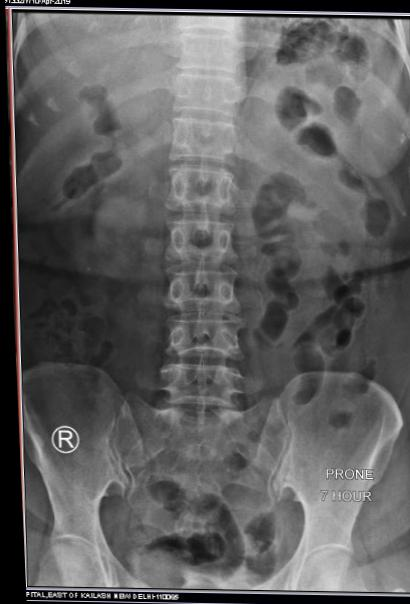vertebrae: (158, 162, 241, 217)
